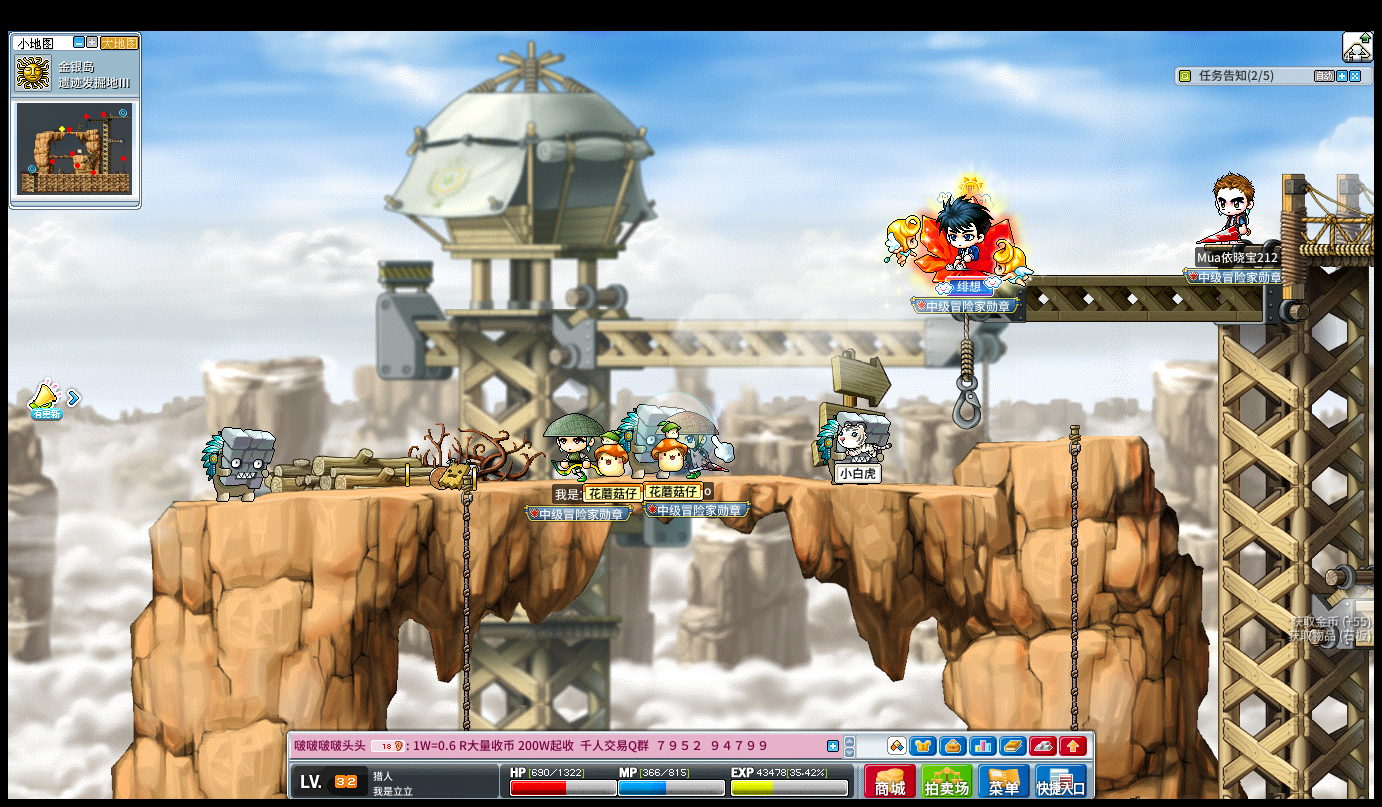floor: (176, 470, 1046, 496), (976, 432, 1144, 446)
monster: (815, 409, 892, 486), (200, 426, 275, 503)
rope: (1066, 421, 1081, 723), (459, 475, 472, 706)
